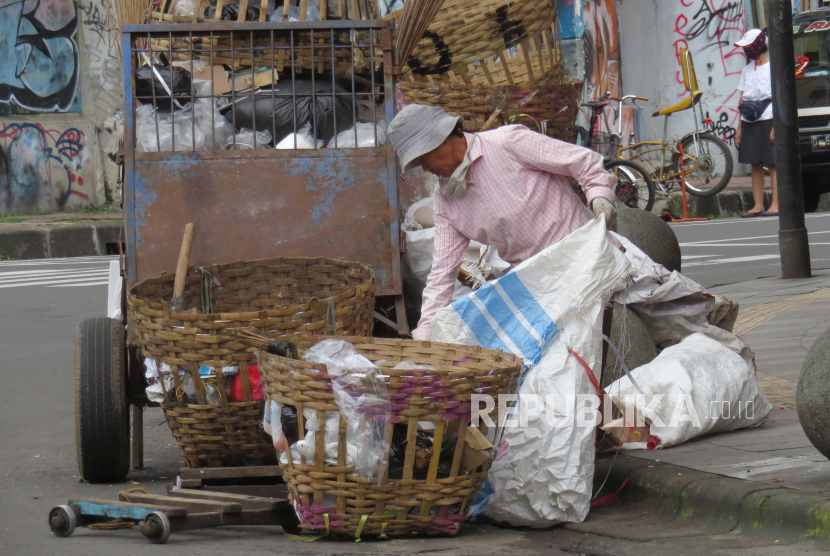pemulung: (362, 93, 640, 531)
